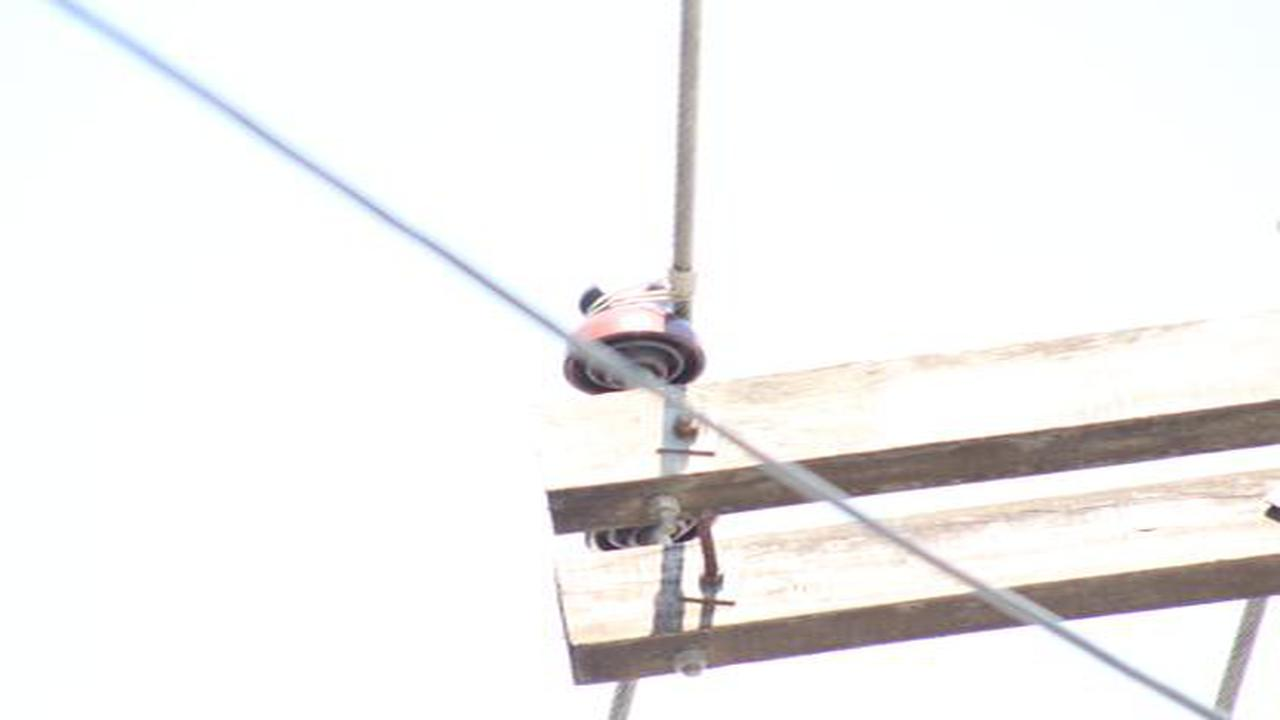insulator_pin: (550, 275, 714, 390)
